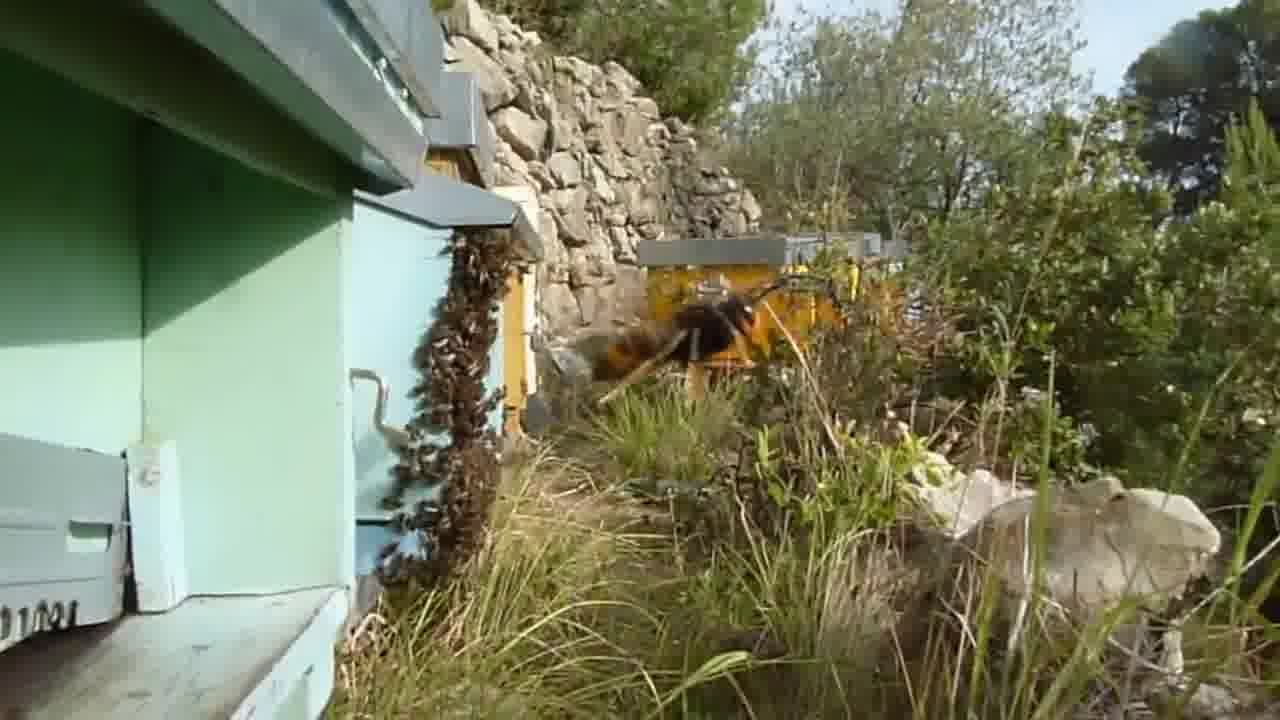bee: (383, 454, 491, 570), (409, 338, 506, 430), (437, 233, 517, 329)
hornet: (582, 261, 783, 412)
